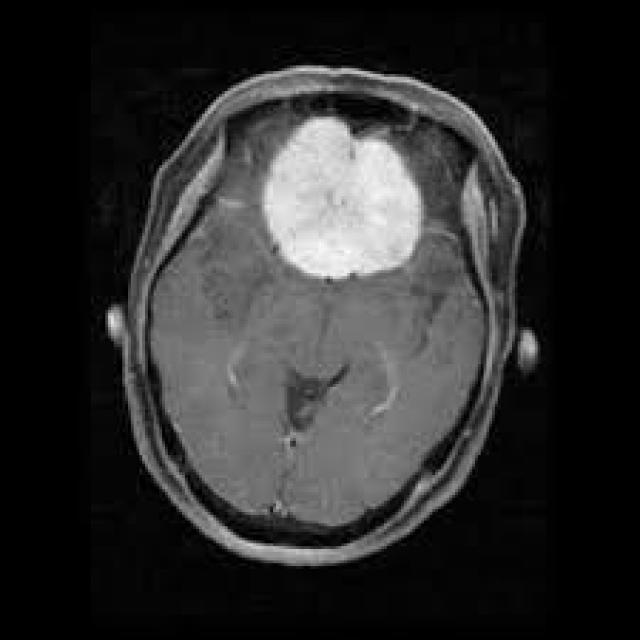Tumor: (265, 117, 424, 280)
